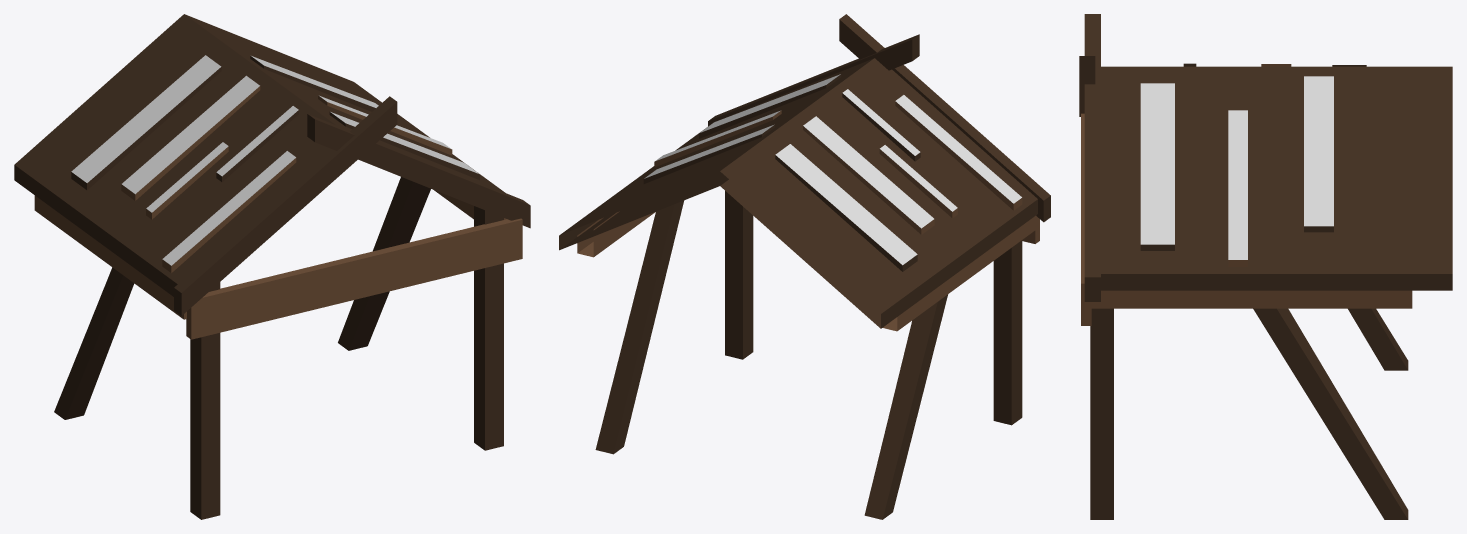
The model's file is mine_entrance_1_snow_mat.fbx.
The picture shows the model from 3 angles, left to right: view 1: azimuth 30°, elevation 25°; view 2: azimuth 150°, elevation 25°; view 3: azimuth 270°, elevation 25°; orthographic projection. The views are drawn at different scales.
Visible parts, largest first — view 1: mine_entrance_1_snow_mat; view 2: mine_entrance_1_snow_mat; view 3: mine_entrance_1_snow_mat.
Boxes of the visible parts, <box> form: mine_entrance_1_snow_mat: <box>14,14,530,519</box>; mine_entrance_1_snow_mat: <box>559,14,1050,519</box>; mine_entrance_1_snow_mat: <box>1079,14,1452,519</box>.
Bounding box in the file's own units: 232 × 236 × 198.
